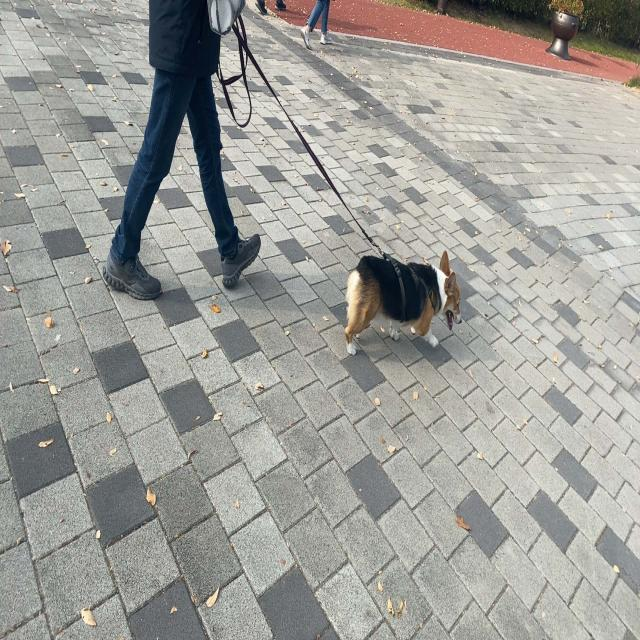Leashed_Dog: (198, 0, 463, 356)
